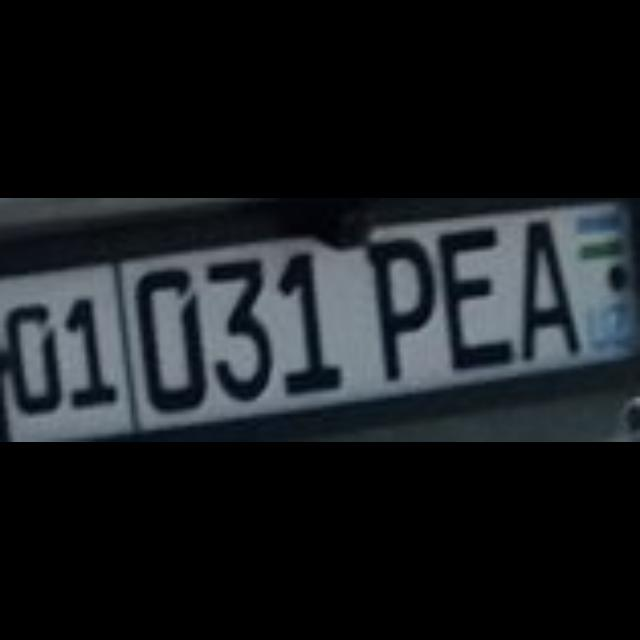0: (130, 260, 203, 410), (1, 300, 62, 410)
1: (274, 246, 338, 394), (62, 292, 115, 406)
3: (200, 250, 268, 398)
A: (518, 214, 574, 354)
E: (436, 218, 509, 366)
P: (358, 235, 432, 378)
